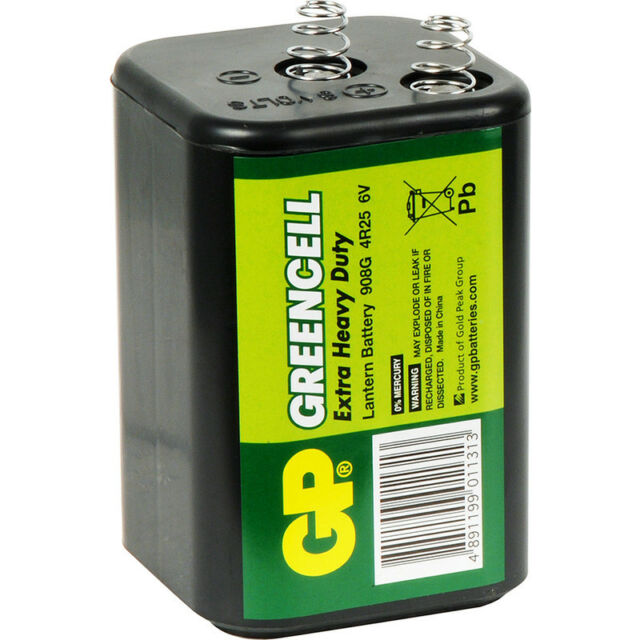6V: (101, 11, 565, 640)
